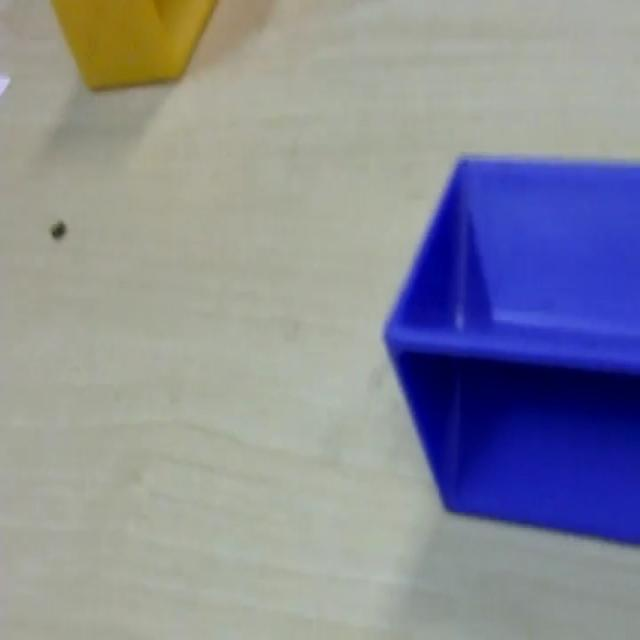blue_block: (382, 149, 638, 544)
yellow_block: (49, 0, 218, 92)
